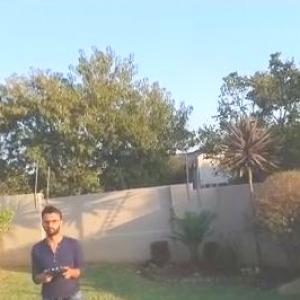follow: (18, 196, 82, 299)
